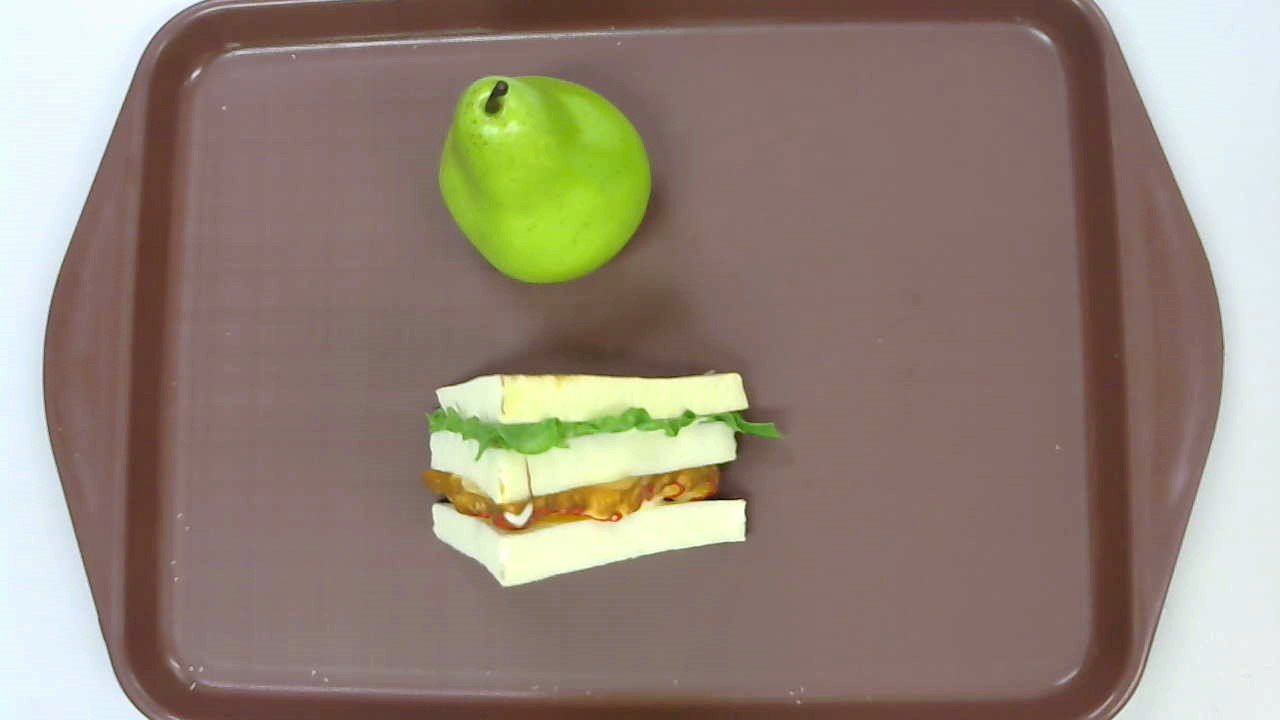green pear: (438, 73, 653, 284)
sandwich: (424, 366, 788, 591)
